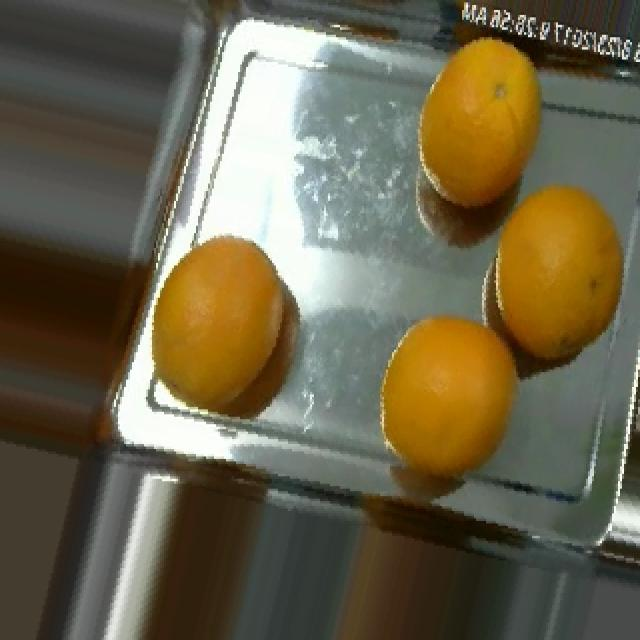Good_Orange: (494, 186, 624, 362), (380, 318, 520, 481), (152, 238, 284, 407), (418, 37, 542, 211)
